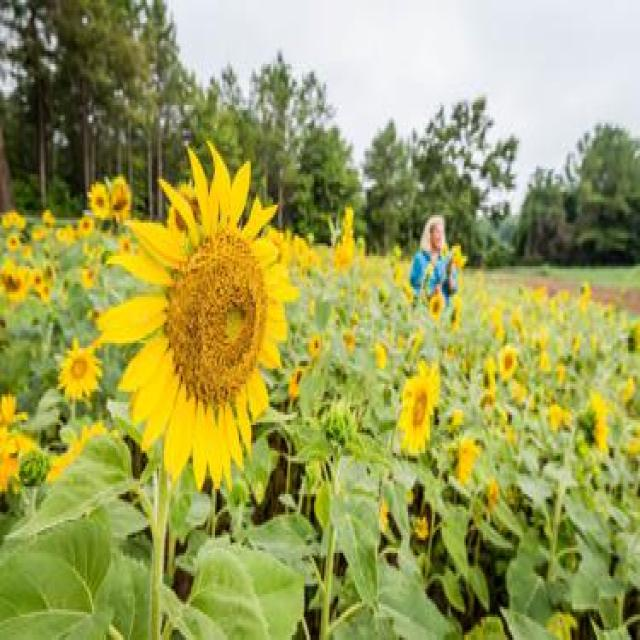sunflower: (90, 131, 294, 494), (400, 364, 440, 456), (54, 330, 105, 402), (574, 392, 617, 458), (492, 341, 522, 382), (85, 178, 110, 224), (0, 260, 31, 296)
